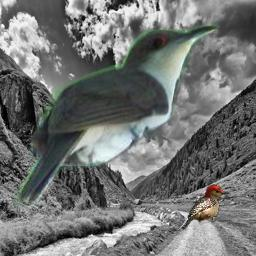Cuckoo: (14, 23, 221, 209)
Woodpecker: (177, 184, 231, 231)
